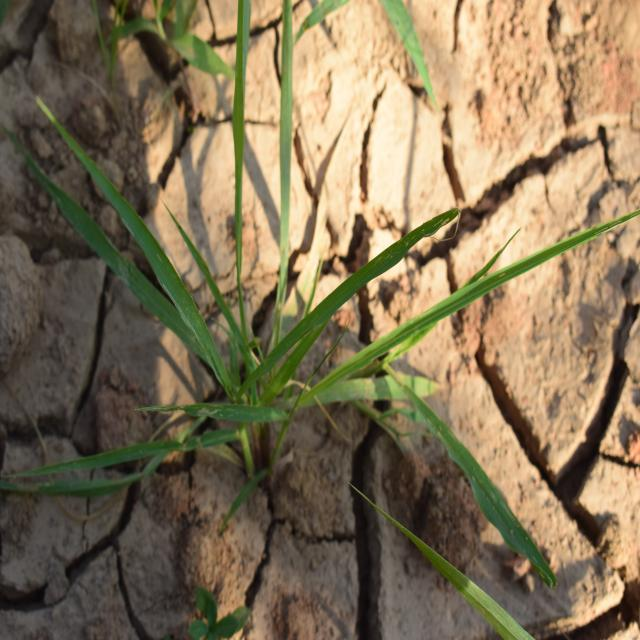green_foxtail: (104, 102, 544, 533)
